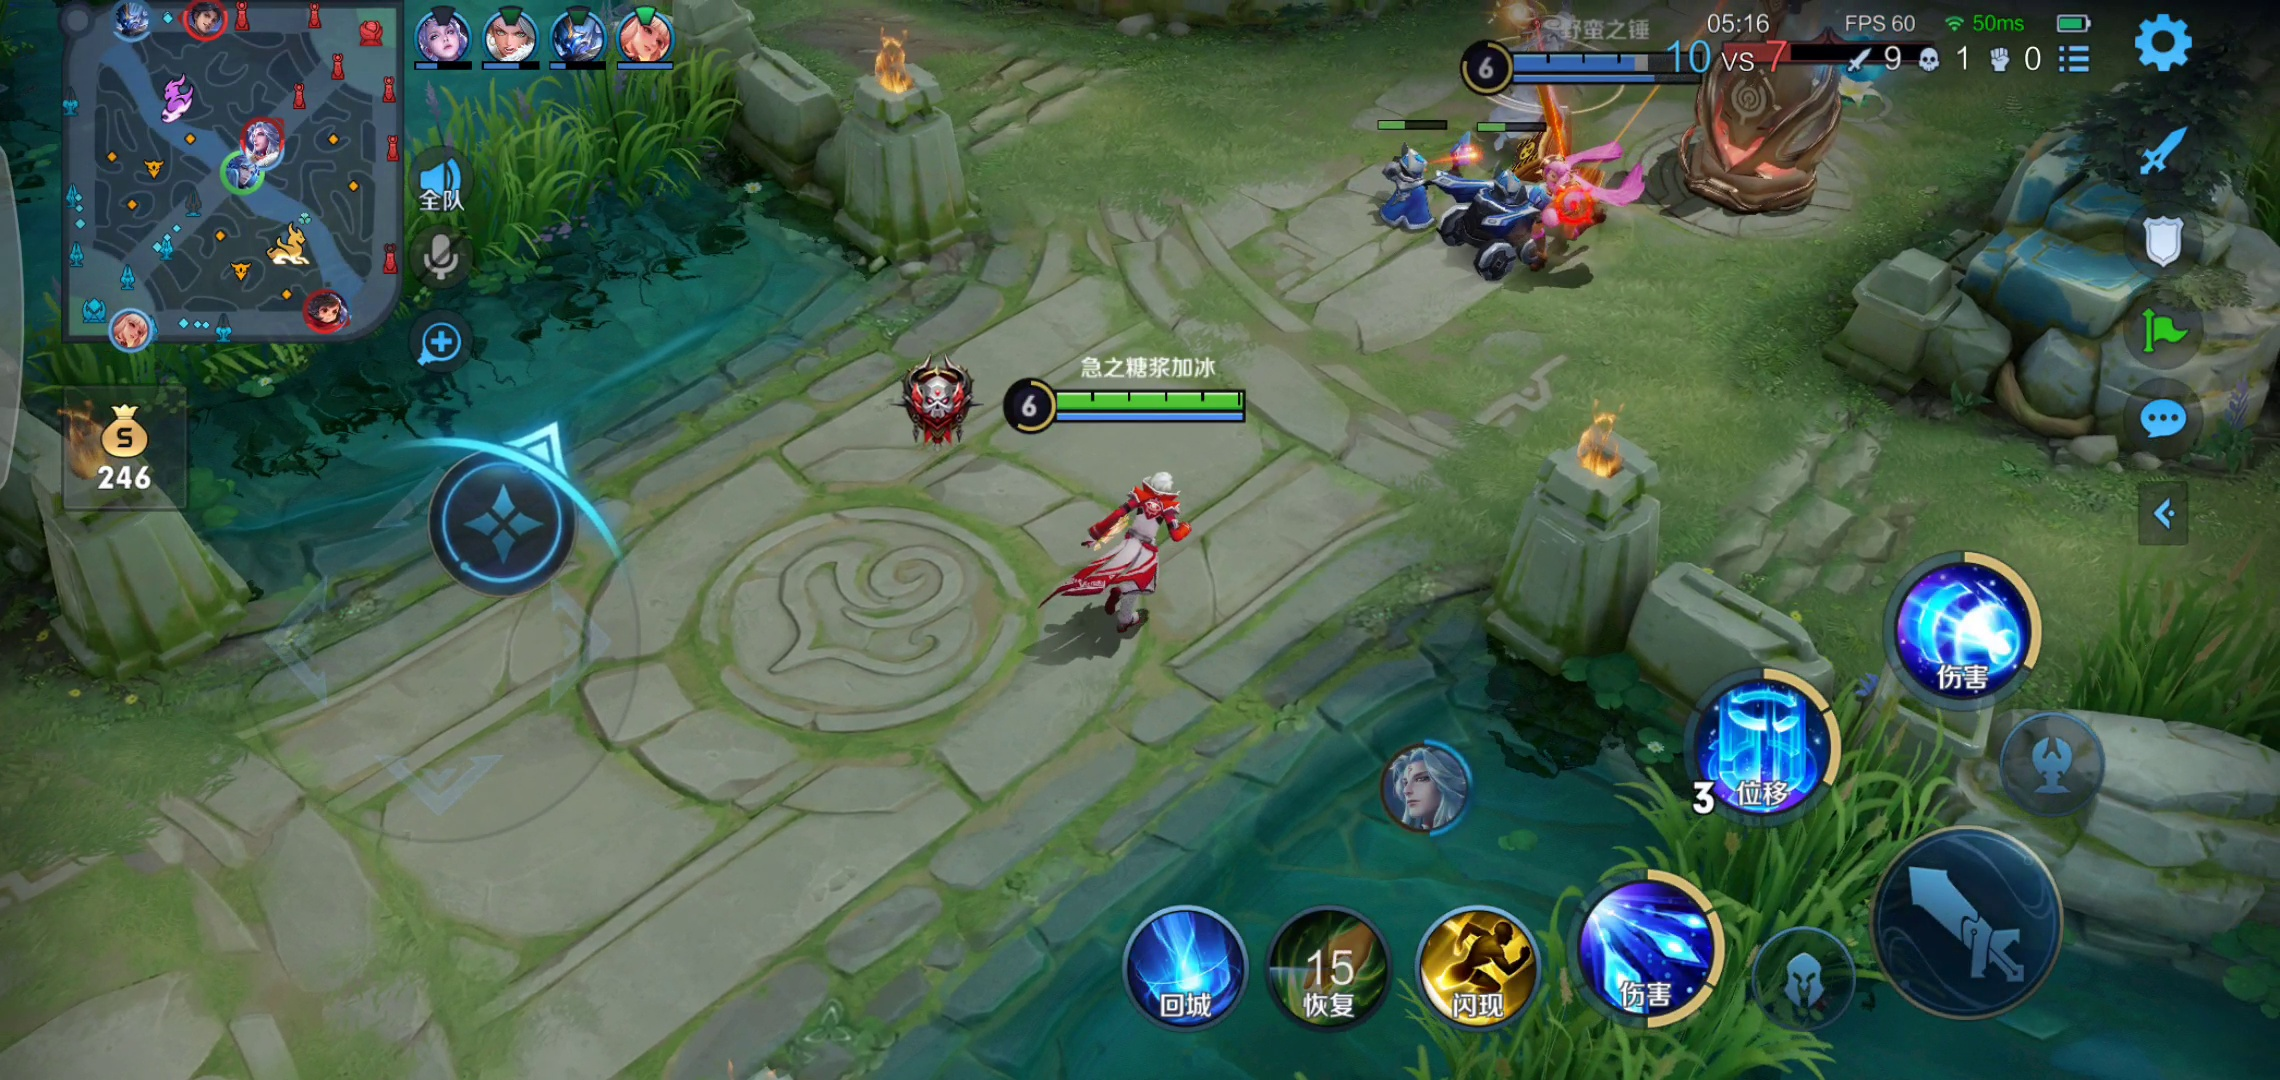grass: (1450, 698, 1906, 1077), (412, 63, 727, 320), (2078, 605, 2280, 721)
hero: (1051, 458, 1210, 635), (1515, 110, 1626, 249)
soldier: (1448, 158, 1538, 270), (1373, 131, 1440, 228)
tower: (1682, 10, 1860, 244)
